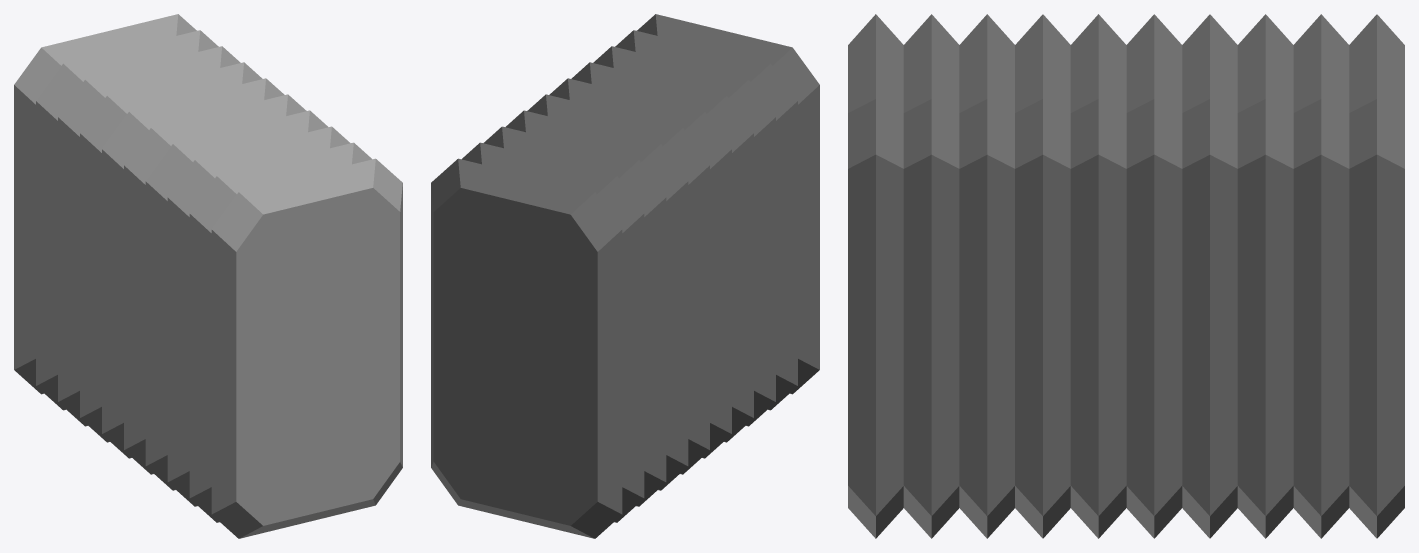
Rendered from passageway_001.fbx.
3 renders of one model, left to right at view 1: azimuth 30°, elevation 25°; view 2: azimuth 150°, elevation 25°; view 3: azimuth 270°, elevation 25°, orthographic. The views are drawn at different scales.
Visible parts, largest first — view 1: passageway_001; view 2: passageway_001; view 3: passageway_001.
Part boxes in pixels (bbox=[...]): passageway_001: bbox=[14, 14, 402, 538]; passageway_001: bbox=[431, 14, 819, 538]; passageway_001: bbox=[848, 14, 1404, 538].
Bounding box in the file's own units: 172 × 343 × 299.
